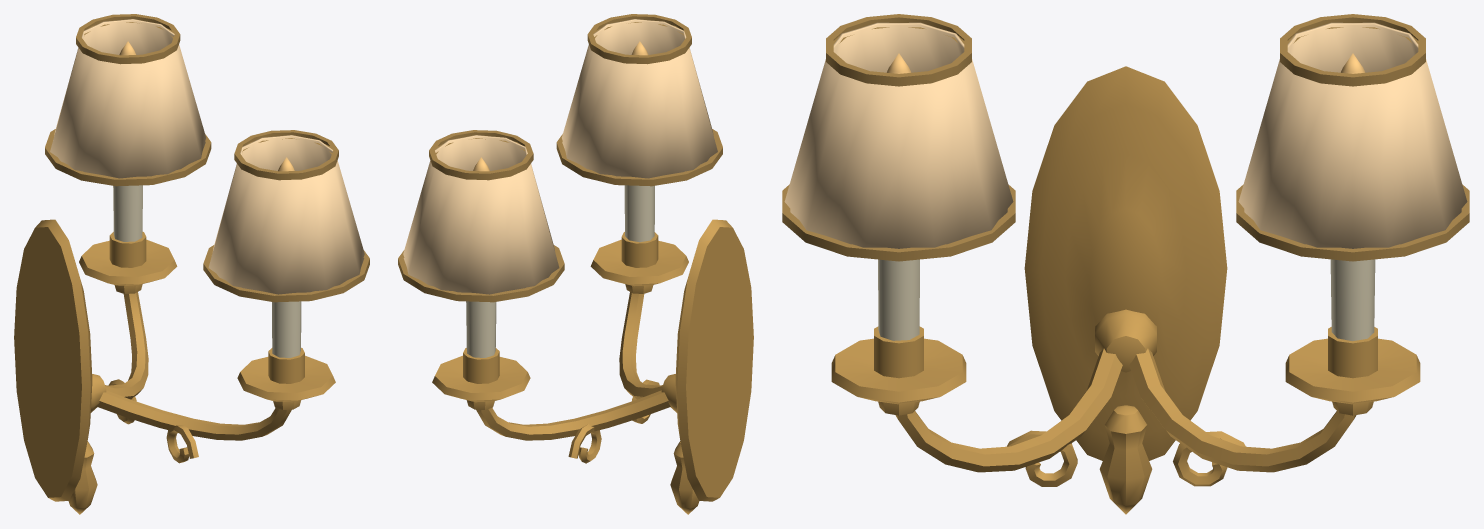
File: candle_sconce@2.glb
3 views of the same model, side by side, from view 1: azimuth 30°, elevation 25°; view 2: azimuth 150°, elevation 25°; view 3: azimuth 270°, elevation 25° (orthographic). The views are drawn at different scales.
Parts seen in each view (by area): view 1: schirme, schild, schirmrand, teller, kerzen; view 2: schirme, schild, schirmrand, teller, kerzen; view 3: schild, schirme, teller, schirmrand, kerzen.
Boxes of the visible parts, x1,y1,x2,y2 form: schirme: (50,19,364,294); schild: (14,219,301,514); schirmrand: (45,14,369,302); teller: (79,232,335,402); kerzen: (113,185,301,357); schirme: (403,19,717,294); schild: (466,219,753,514); schirmrand: (398,14,722,302); teller: (432,232,688,402); kerzen: (466,185,654,357); schild: (878,66,1373,514); schirme: (784,22,1467,248); teller: (831,326,1420,404); schirmrand: (782,14,1469,261); kerzen: (878,259,1375,341).
Bounding box in the file's own units: 0.189 × 0.304 × 0.339.
